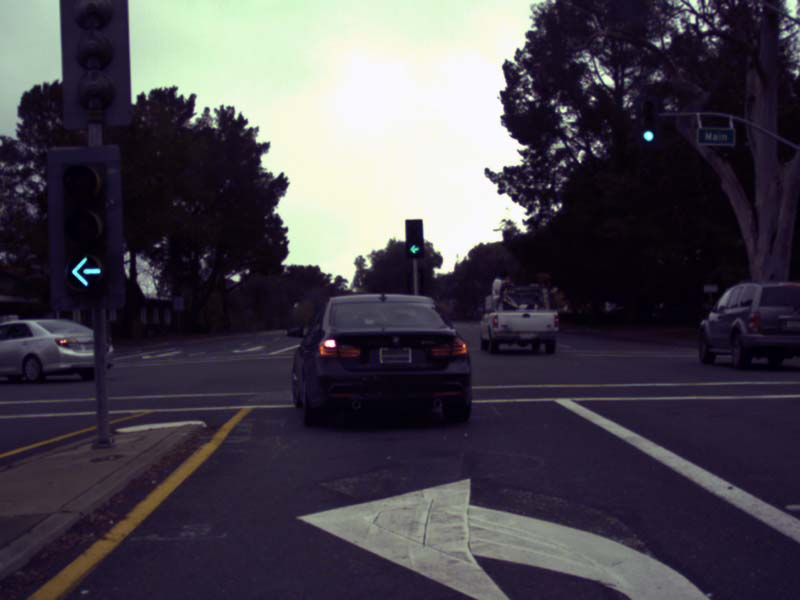Green: (48, 148, 125, 310), (635, 97, 660, 145), (405, 219, 423, 258)
